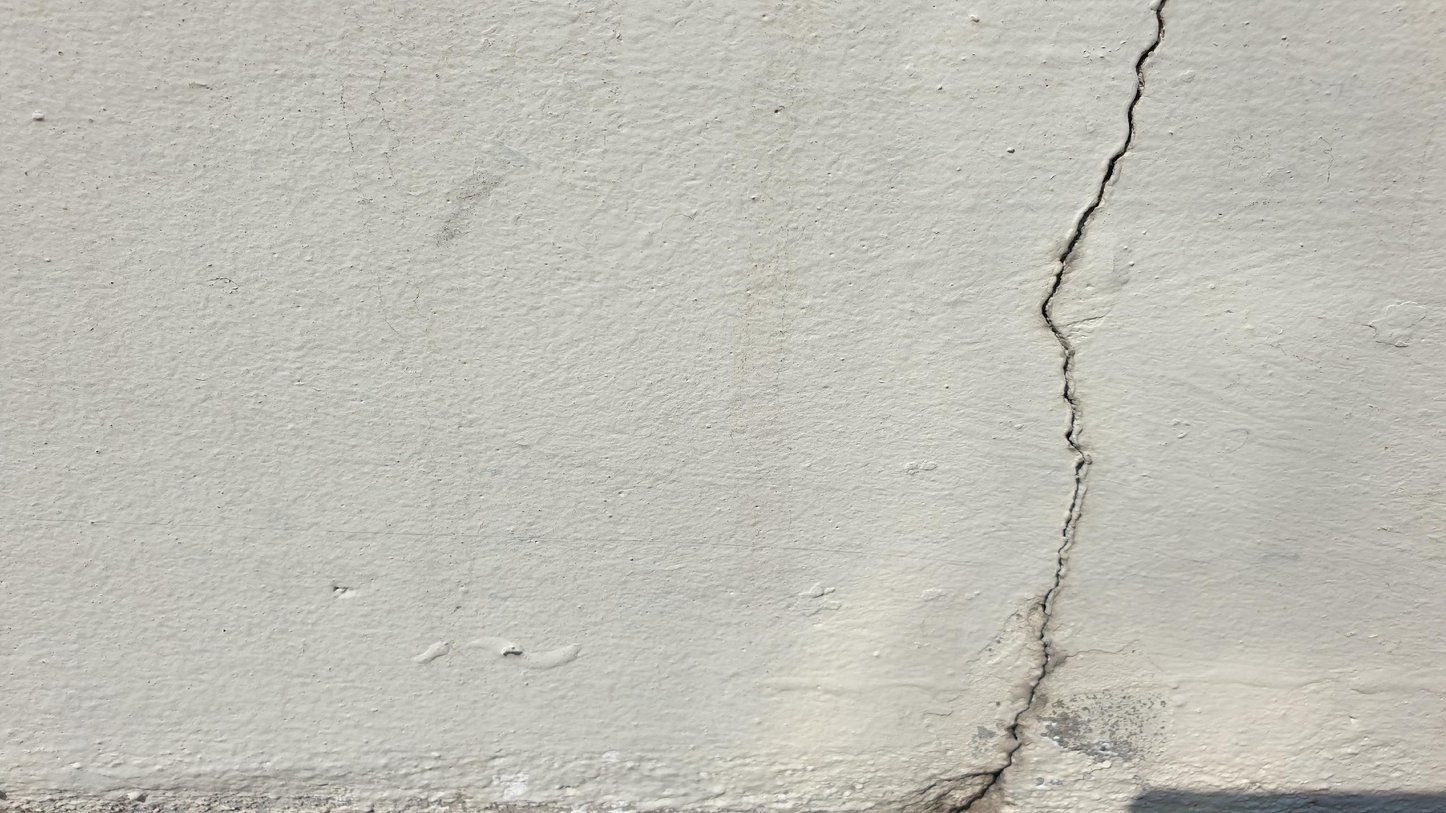crack: (955, 1, 1166, 812)
